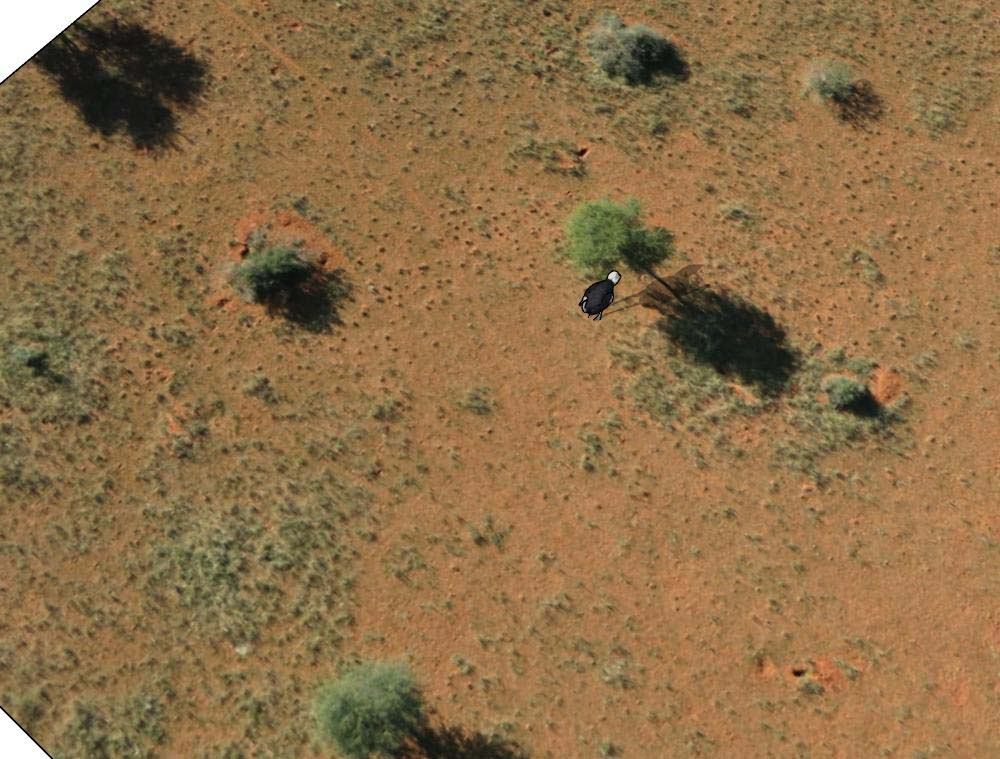ostrich: (576, 268, 621, 324)
